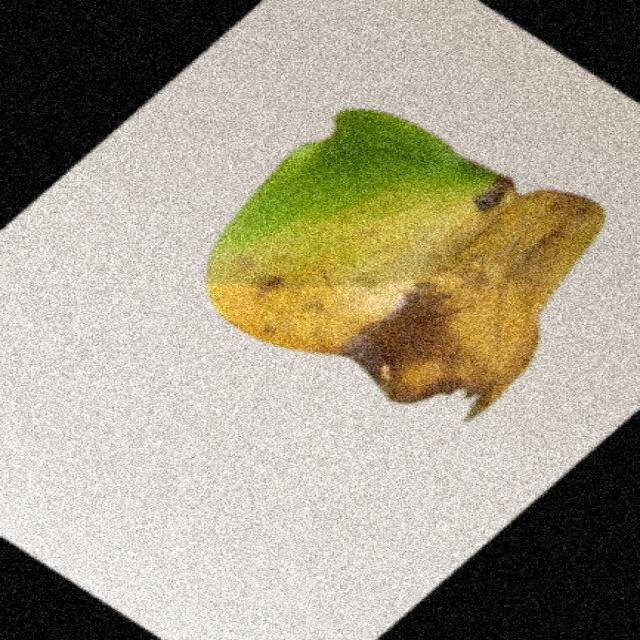daun berpenyakit kuning: (208, 110, 605, 417)
